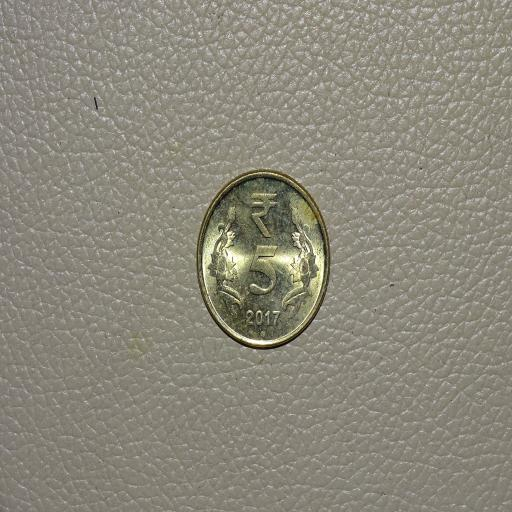rupee5: (188, 168, 330, 353)
